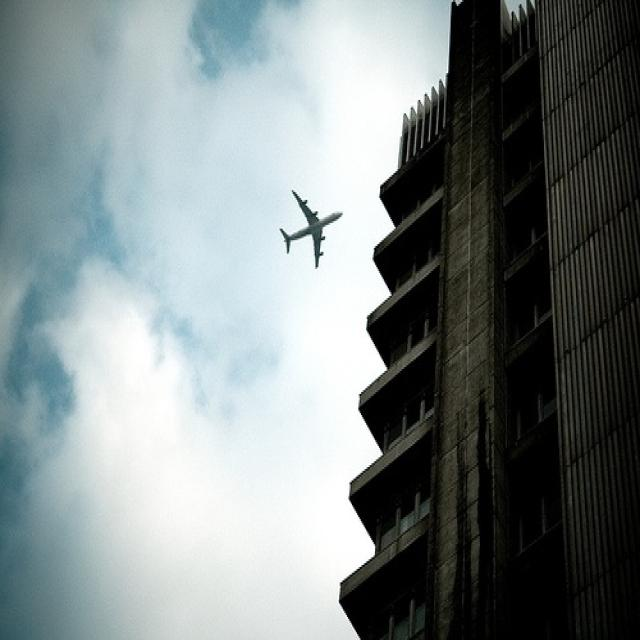aeroplane: (279, 188, 343, 269)
